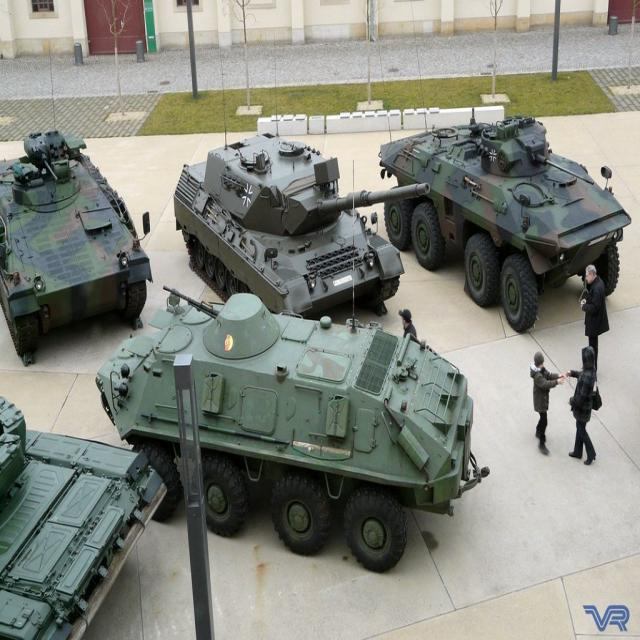tank: (101, 286, 473, 576), (381, 109, 621, 339), (176, 131, 423, 326), (3, 129, 149, 367)
